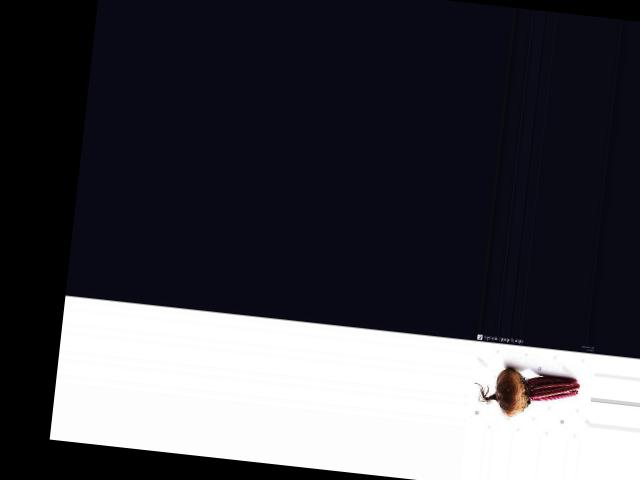beet: (471, 364, 581, 423)
